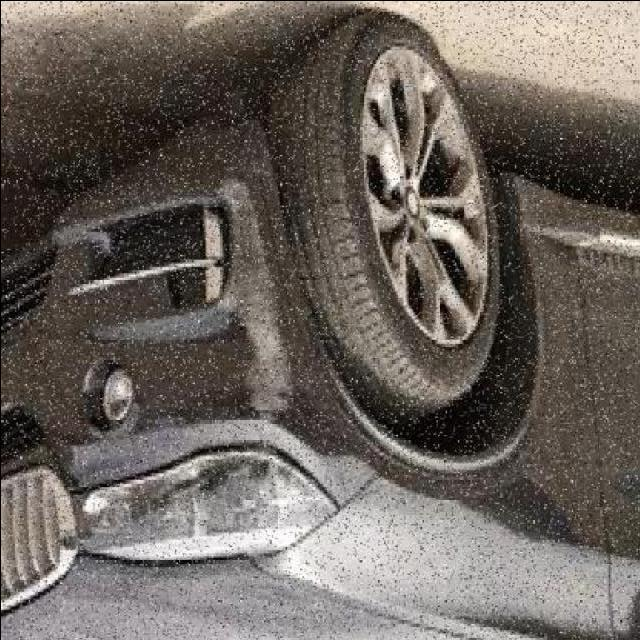front-bumper-dent: (2, 88, 346, 522)
